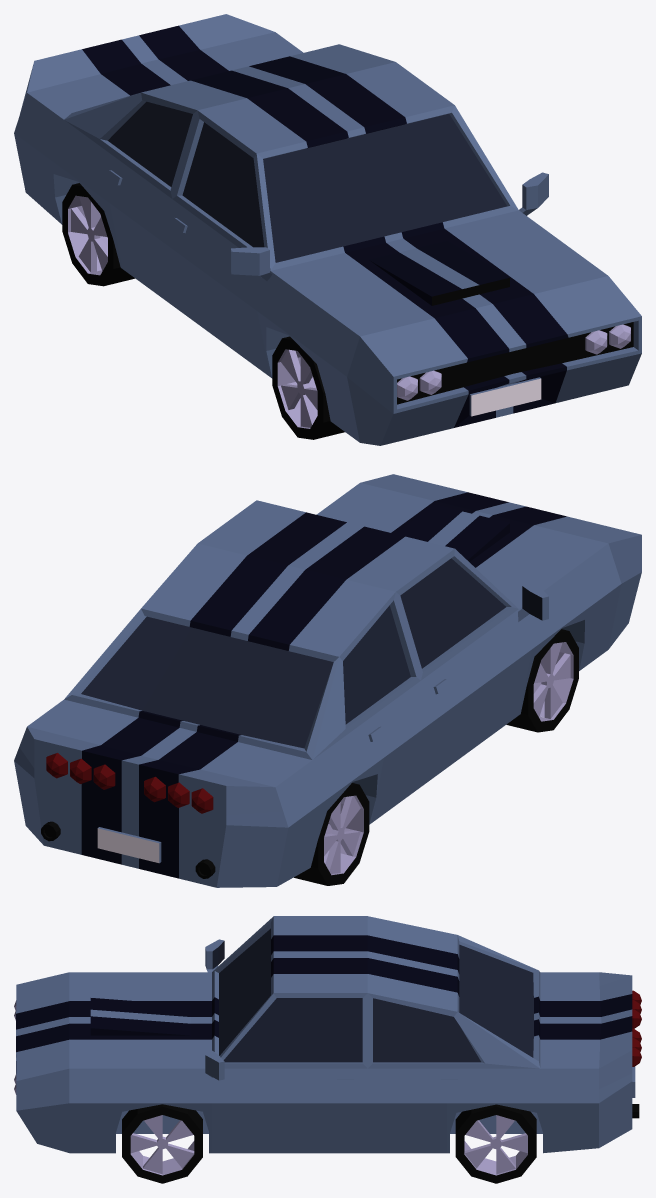
The model's file is stripe.glb.
The picture shows the model from 3 angles, top to bottom: view 1: azimuth 30°, elevation 25°; view 2: azimuth 150°, elevation 25°; view 3: azimuth 270°, elevation 25°; orthographic projection. The views are drawn at different scales.
Visible parts, largest first — view 1: body-0, wheel-front-right, wheel-back-right; view 2: body-0, wheel-front-right, wheel-back-right; view 3: body-0, wheel-front-left, wheel-back-left.
Part boxes in pixels (bbox=[...]): body-0: bbox=[14, 14, 641, 445]; wheel-front-right: bbox=[272, 336, 344, 439]; wheel-back-right: bbox=[62, 183, 134, 286]; body-0: bbox=[14, 474, 641, 887]; wheel-front-right: bbox=[506, 629, 578, 732]; wheel-back-right: bbox=[294, 783, 369, 885]; body-0: bbox=[14, 916, 641, 1153]; wheel-front-left: bbox=[122, 1104, 202, 1183]; wheel-back-left: bbox=[455, 1104, 536, 1183].
Size of the model in its own units: 1.72 by 1.17 by 3.7.
